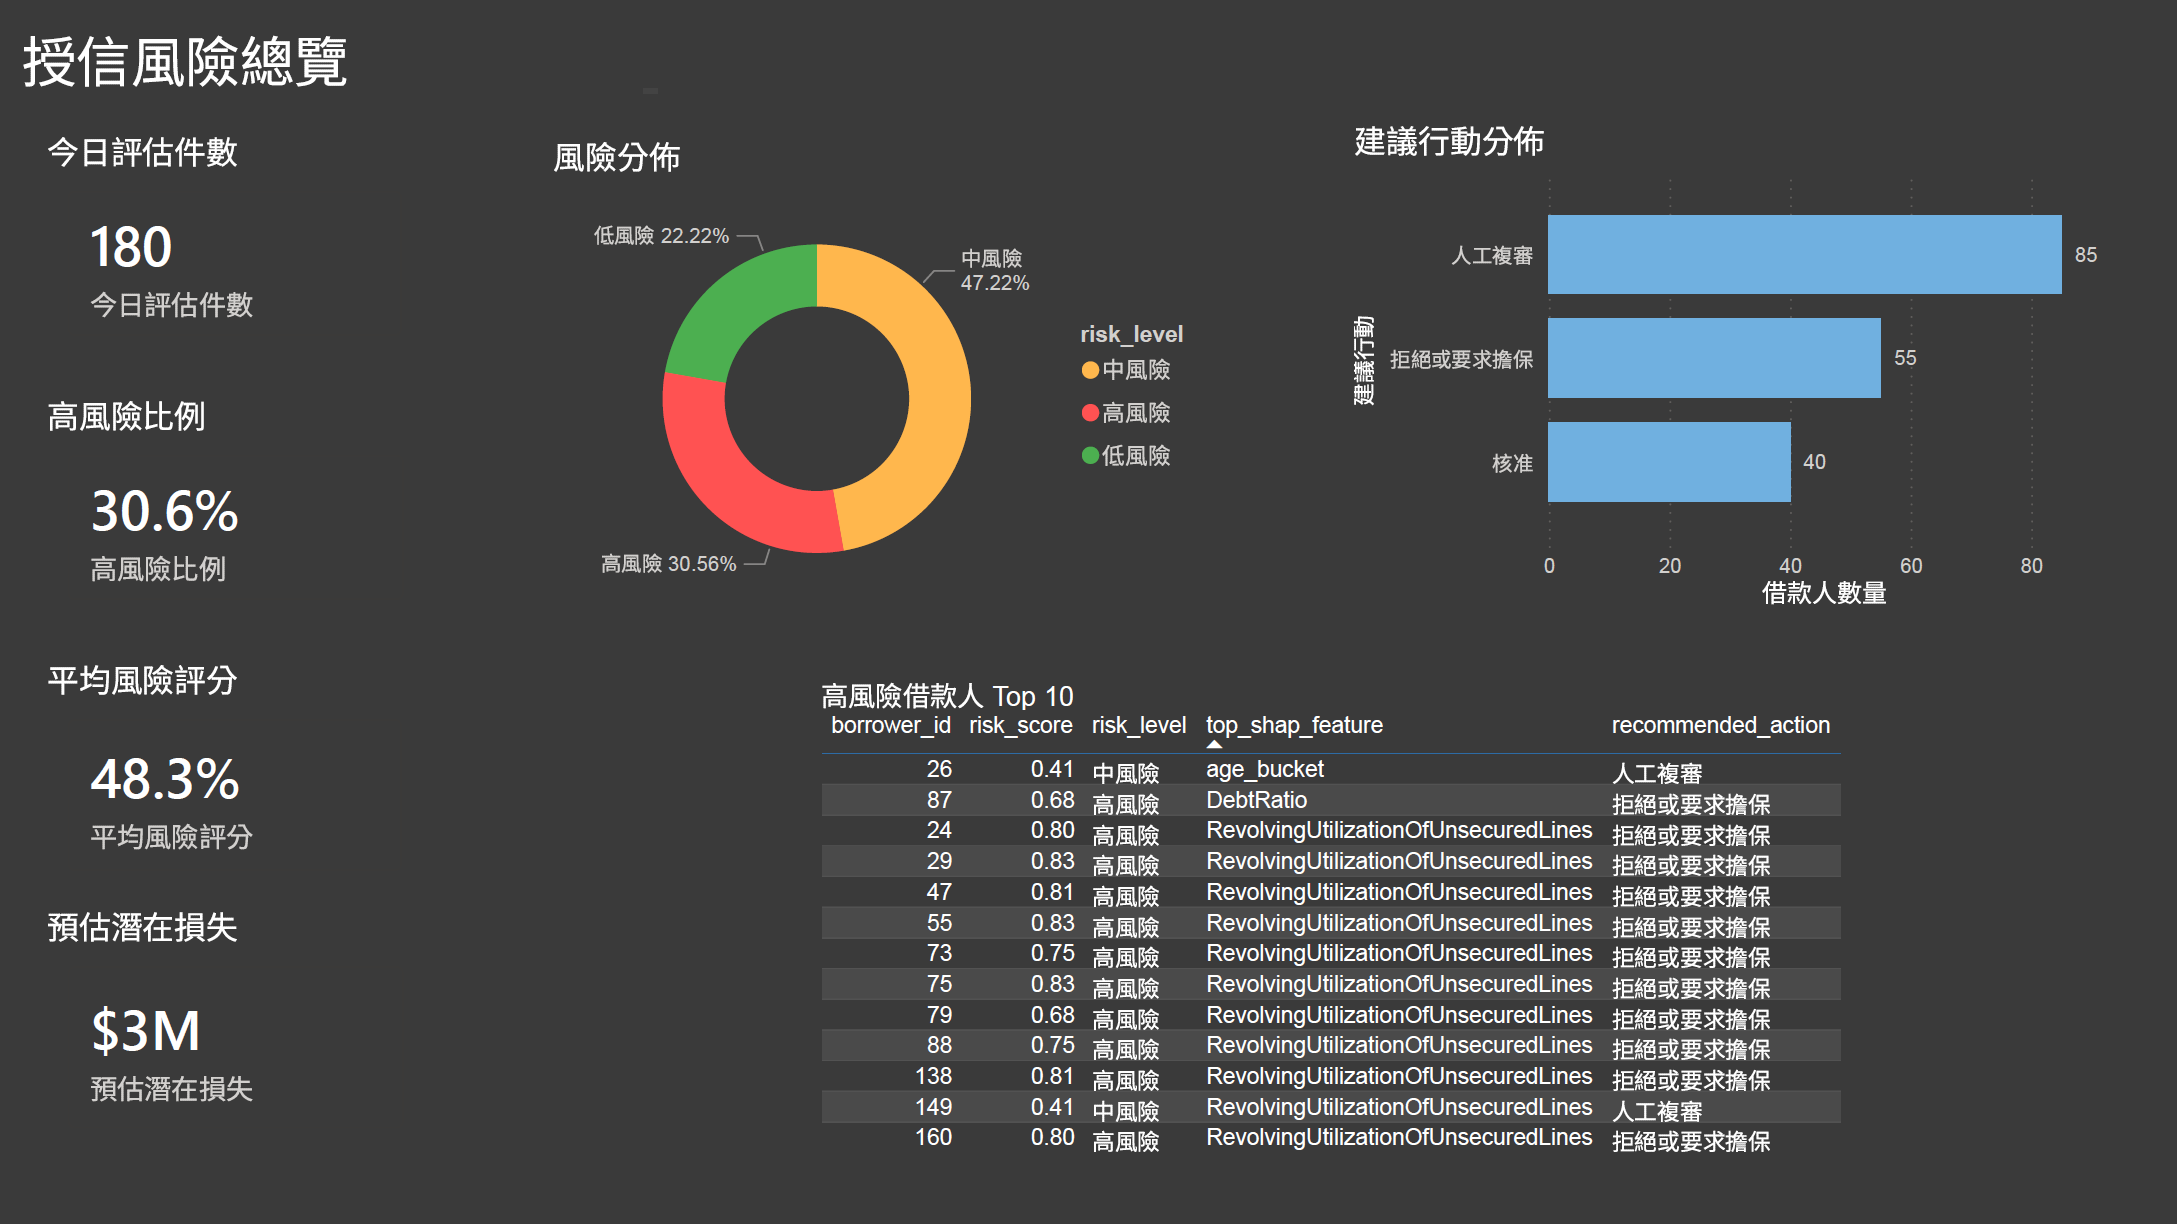

The page's visual inventory and layout, read from the dashboard file:
{"tool":"powerbi","page":{"name":"Executive Summary","canvas":[1280,720],"ordinal":0},"visuals":[{"type":"cardVisual","title":"今日評估件數","fields":{"Data":["powerbi_dashboard_clean.今日評估件數"]},"box":[24.3,74.4,230.4,140.2],"z":0},{"type":"cardVisual","title":"高風險比例","fields":{"Data":["powerbi_dashboard_clean.高風險比例"]},"box":[24.3,229,231.1,141],"z":1000},{"type":"cardVisual","title":"平均風險評分","fields":{"Data":["powerbi_dashboard_clean.平均風險評分"]},"box":[24.3,384.2,230.4,144.5],"z":2000},{"type":"cardVisual","title":"預估潛在損失","fields":{"Data":["powerbi_dashboard_clean.預估潛在損失"]},"box":[24.3,528.7,231.1,150.3],"z":3000},{"type":"donutChart","title":"風險分佈","fields":{"Category":["powerbi_dashboard_clean.risk_level"],"Y":["CountNonNull(powerbi_dashboard_clean.borrower_id)"]},"box":[320.5,76.6,397.1,293.3],"z":4000},{"type":"tableEx","title":"高風險借款人 Top 10","fields":{"Values":["powerbi_dashboard_clean.borrower_id","powerbi_dashboard_clean.risk_score","powerbi_dashboard_clean.risk_level","powerbi_dashboard_clean.top_shap_feature","powerbi_dashboard_clean.recommended_action"]},"box":[477.9,394.9,626,297.6],"z":5000},{"type":"clusteredBarChart","title":"建議行動分佈","fields":{"Category":["powerbi_dashboard_clean.recommended_action"],"Y":["CountNonNull(powerbi_dashboard_clean.borrower_id)"]},"box":[791.3,68,454.3,292.6],"z":6000},{"type":"textbox","title":"授信風險總覽","box":[9.3,10.6,382.8,48.9],"z":7000}]}

Visuals, with their boxes in screenshot pixels (x1, y1, x2, y2), scaled from the page's 1280x720 canvas onto the 2177x1224 screenshot:
"今日評估件數" cardVisual: bbox=(41, 126, 433, 365)
"高風險比例" cardVisual: bbox=(41, 389, 434, 629)
"平均風險評分" cardVisual: bbox=(41, 653, 433, 899)
"預估潛在損失" cardVisual: bbox=(41, 899, 434, 1154)
"風險分佈" donutChart: bbox=(545, 130, 1220, 629)
"高風險借款人 Top 10" tableEx: bbox=(813, 671, 1877, 1177)
"建議行動分佈" clusteredBarChart: bbox=(1346, 116, 2118, 613)
"授信風險總覽" textbox: bbox=(16, 18, 667, 101)
